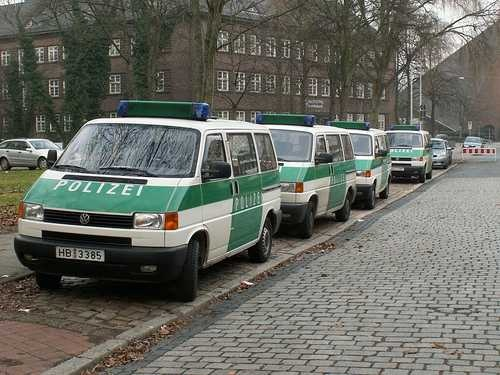Police Car: (28, 101, 284, 287), (249, 107, 359, 225), (333, 116, 392, 215), (376, 123, 435, 200)
